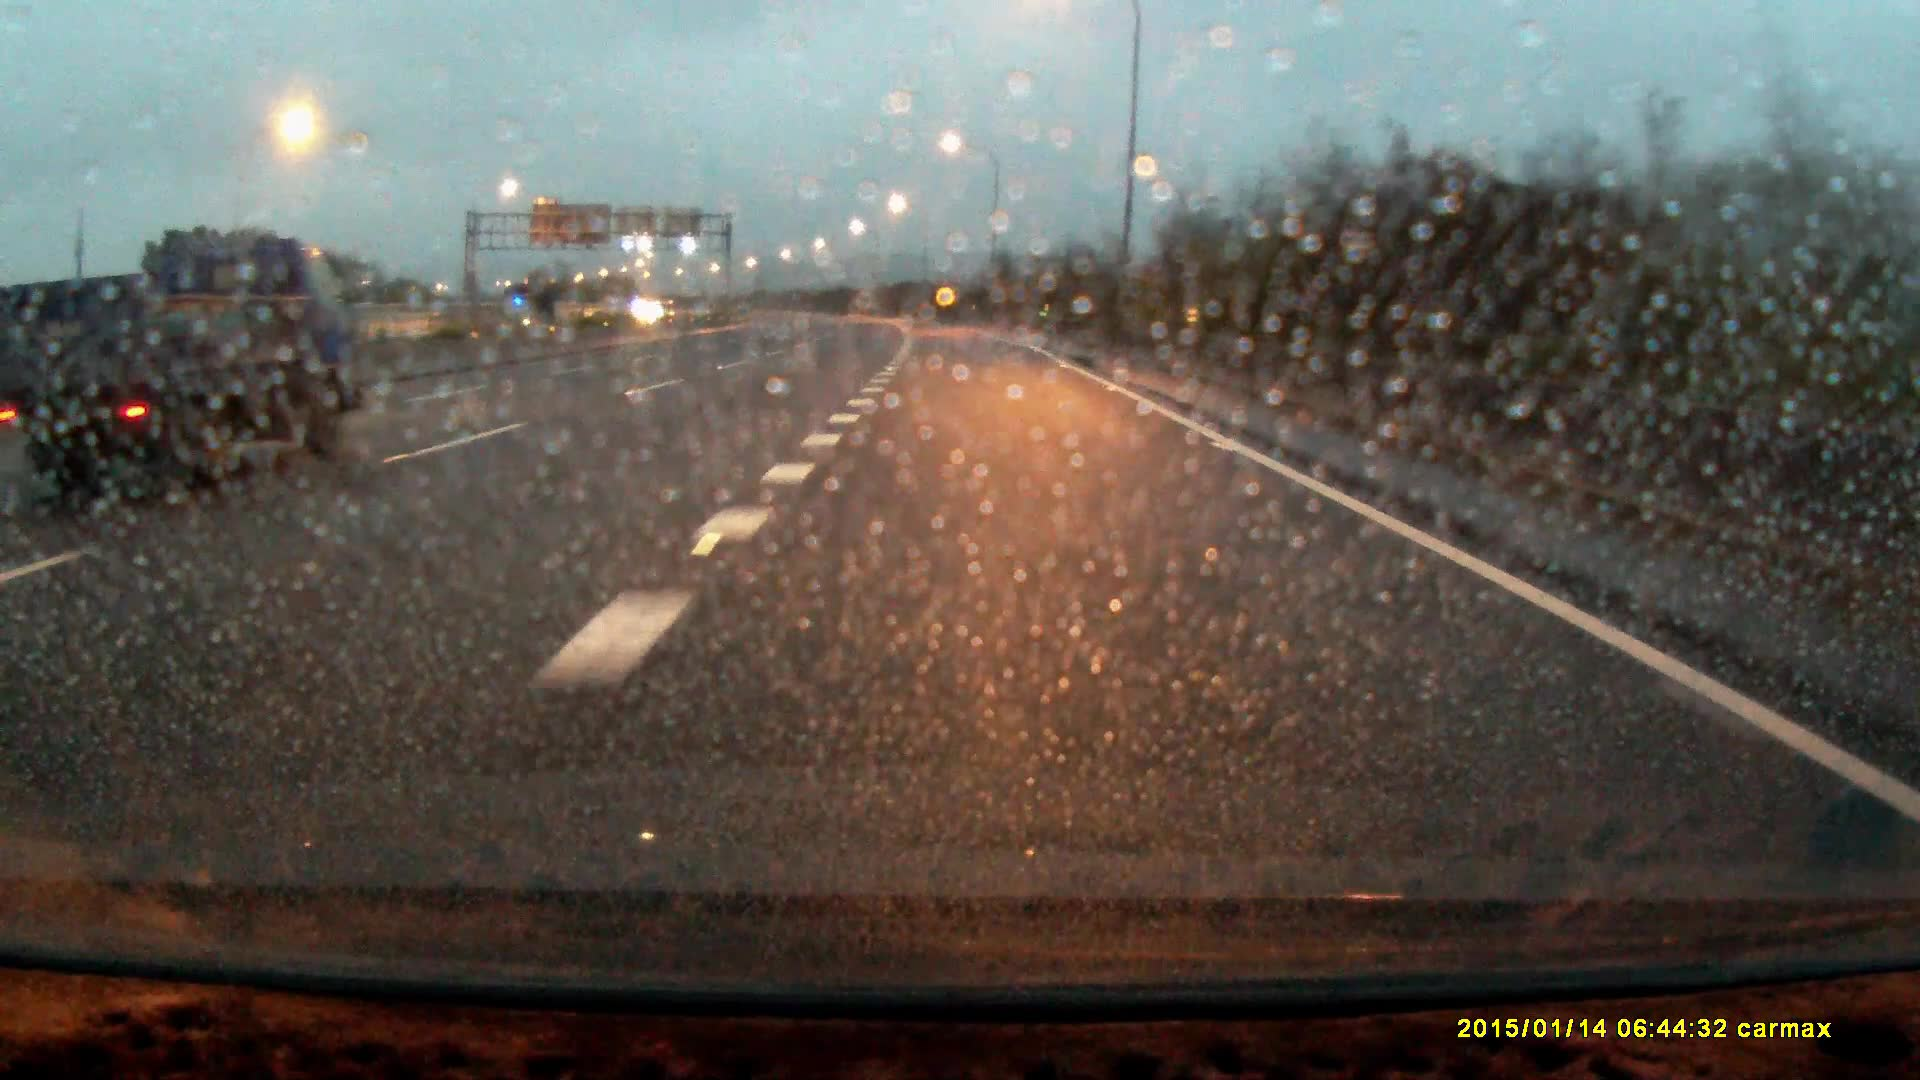vehicle: (1, 225, 376, 506)
